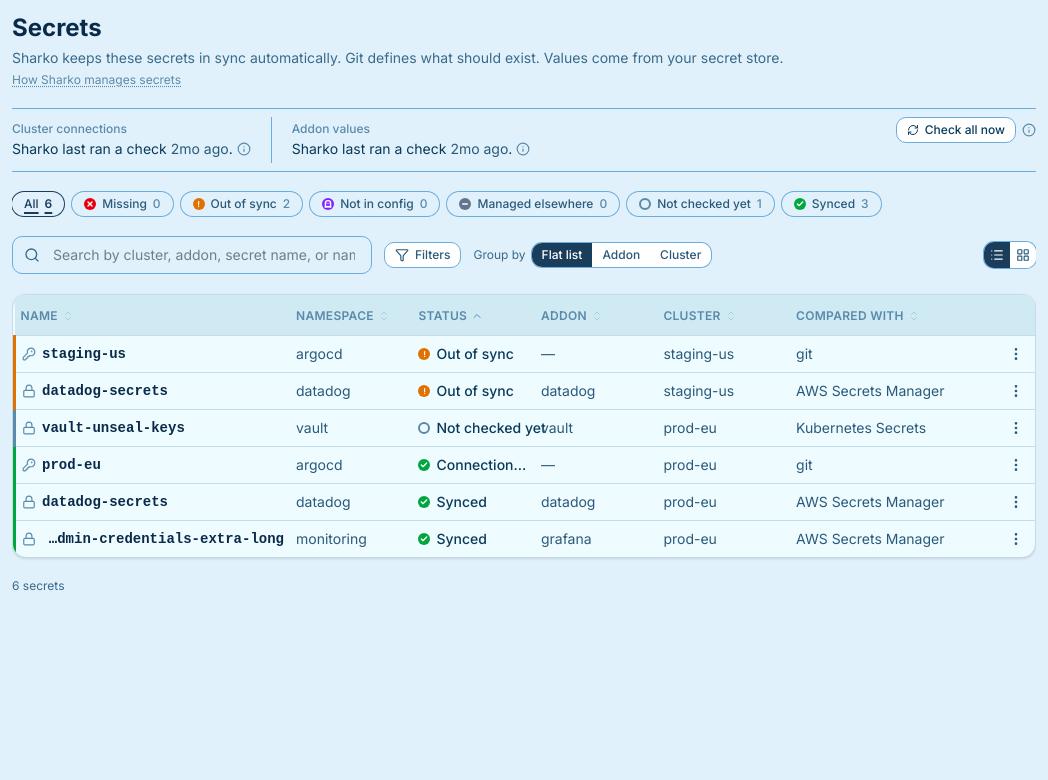
Test: group-by "None" — a flat grid of boxes, one per secret › renders one box per secret and no section headings
Expected: the button with test id "secret-row-connection-prod-eu" is shown, x1=14 y1=446 x2=1035 y2=483
Click the button with test id "view-tiles".
click(1023, 255)  # box x1=1010 y1=242 x2=1036 y2=268
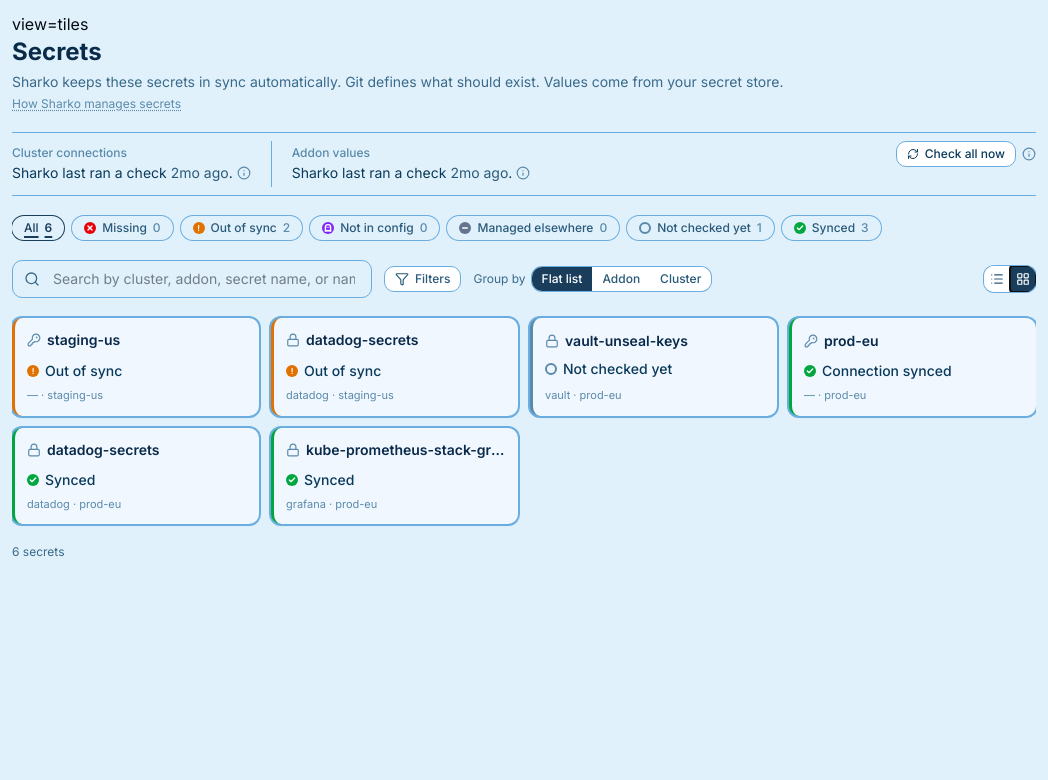
Expected: the button with test id "secret-box-connection-prod-eu" is shown, x1=789 y1=318 x2=1036 y2=416
Expected: the button with test id "secret-box-values-prod-eu-datadog" is shown, x1=12 y1=428 x2=259 y2=524
Expected: the button with test id "secret-box-values-staging-us-datadog" is shown, x1=271 y1=318 x2=518 y2=416
